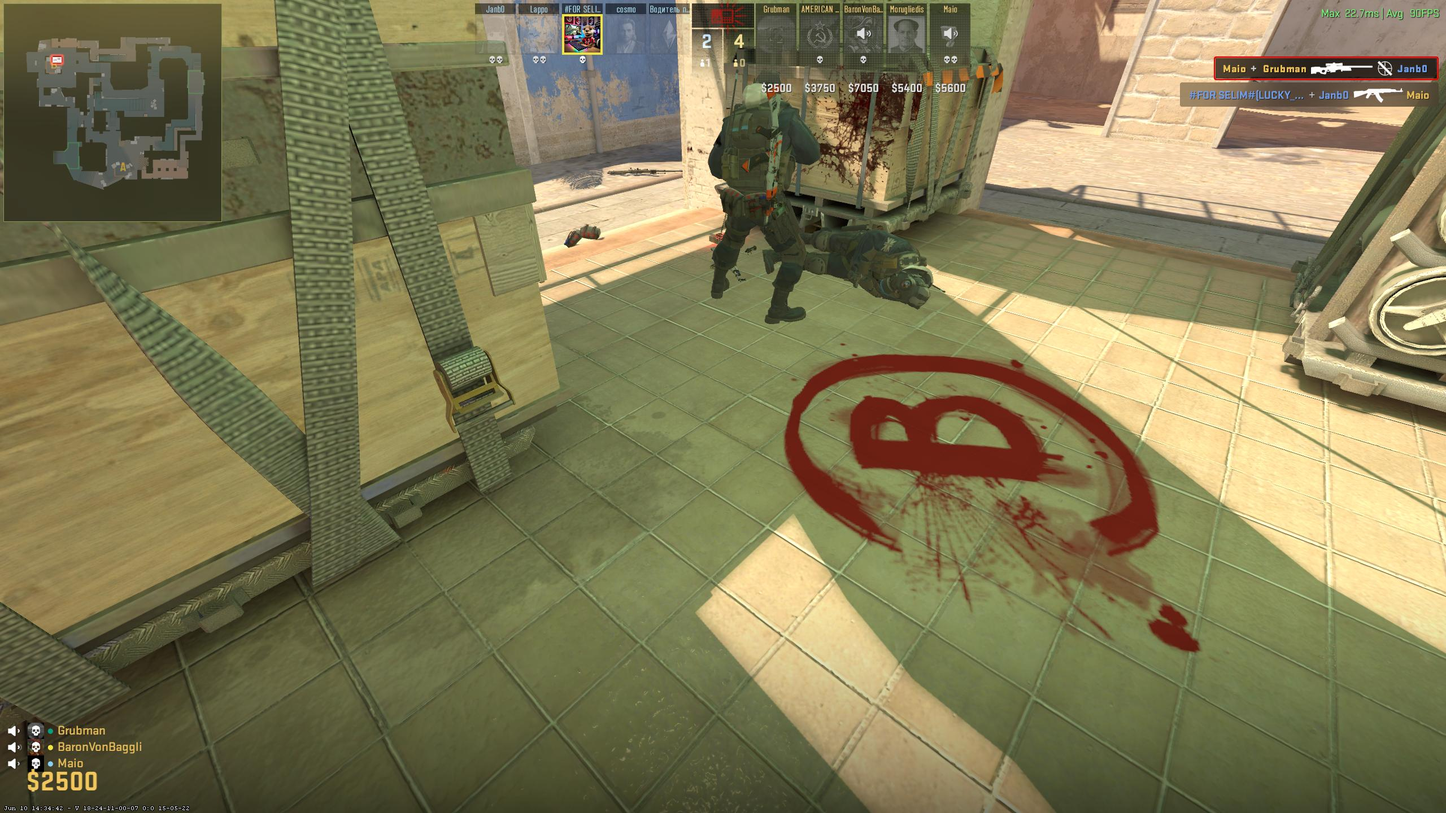CT: (717, 76, 824, 328), (780, 216, 934, 307)
